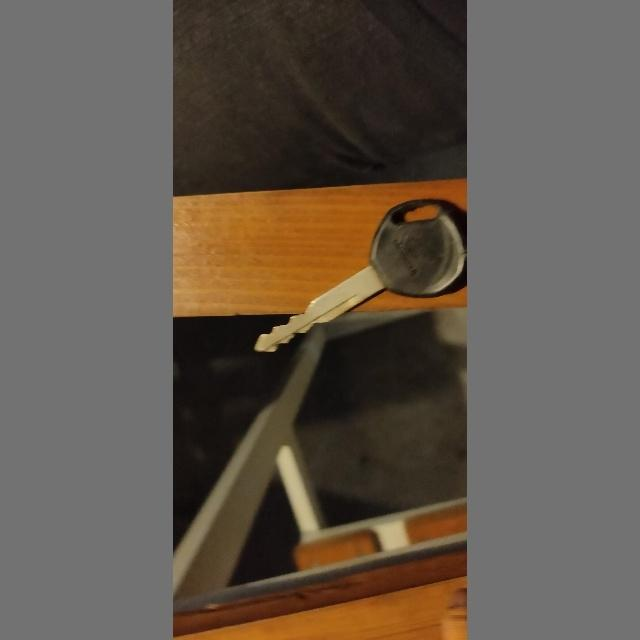Keys: (248, 188, 468, 362)
